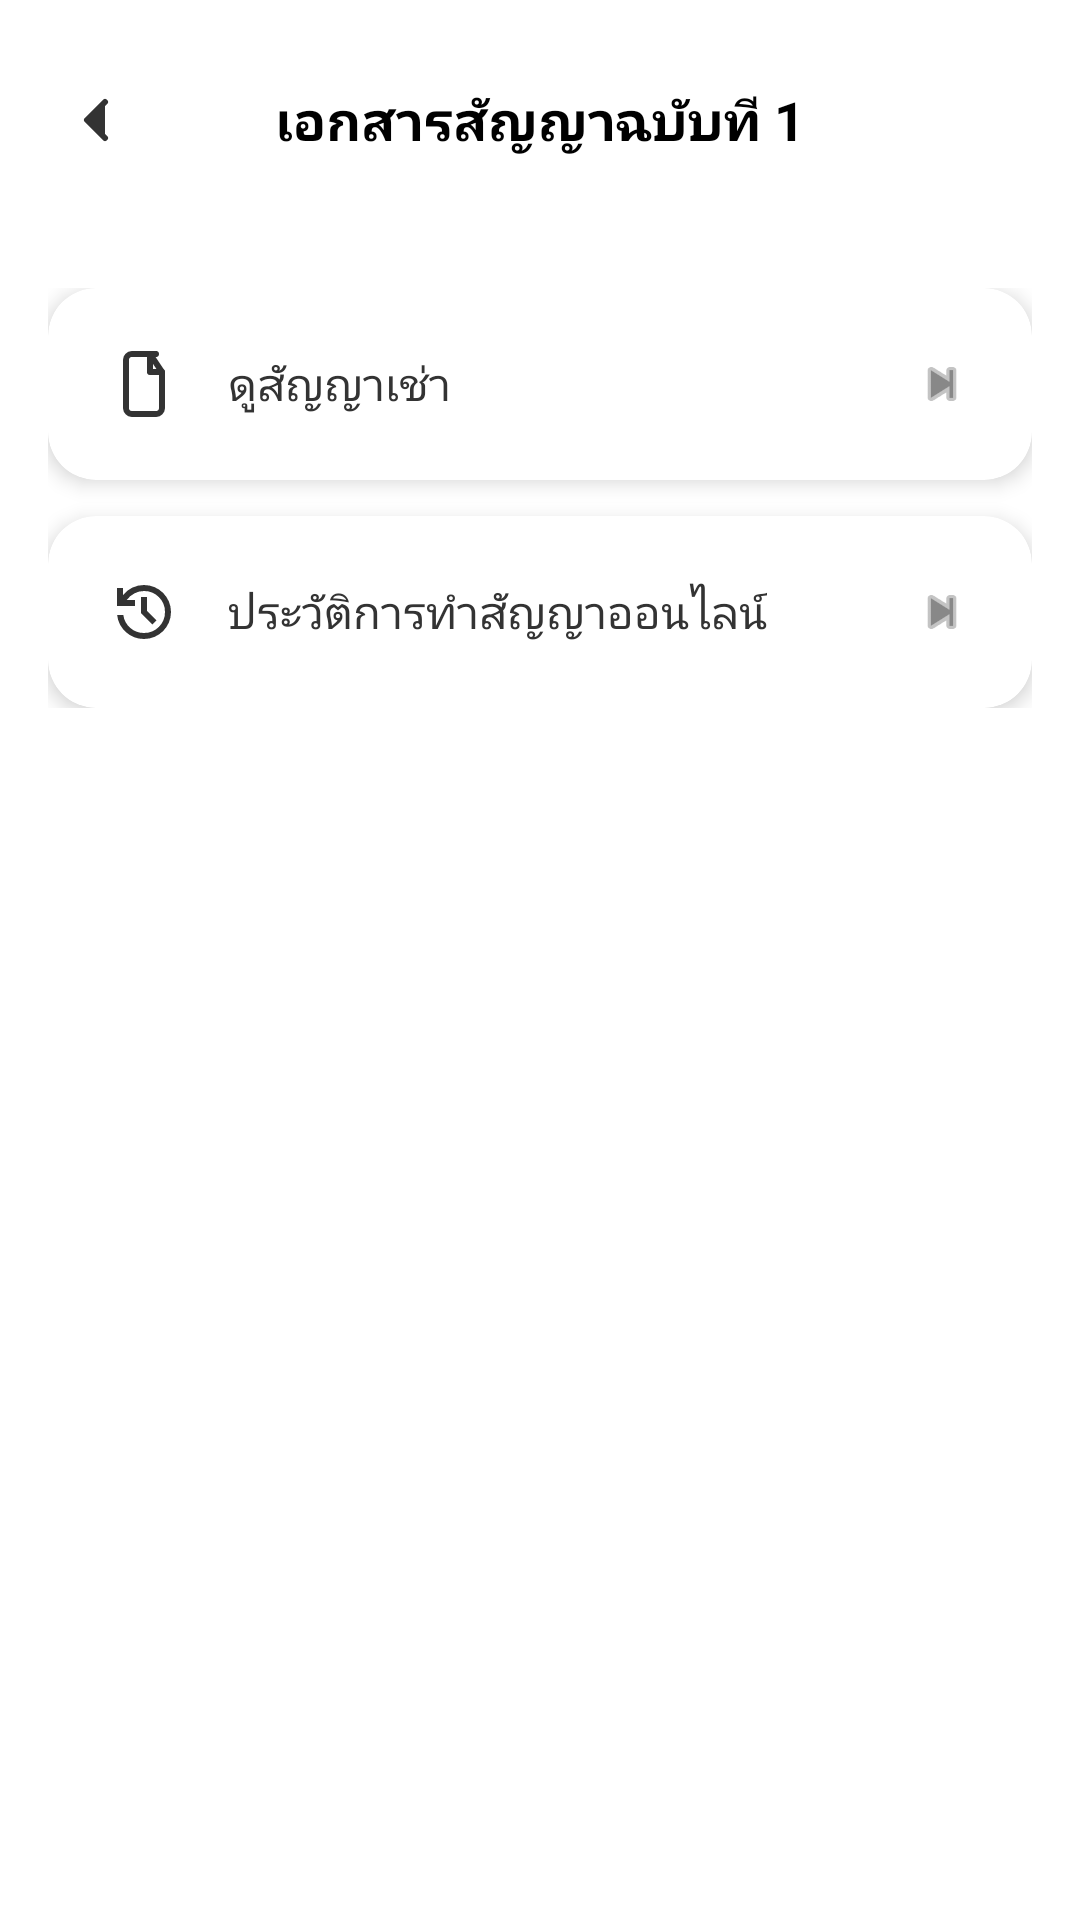

Icon bounding boxes for this 1080x1920 phone screenshot, format (x1, y1, x2, y2):
back gg: (84, 99, 108, 141)
file gg: (123, 351, 165, 417)
history gg: (117, 585, 171, 639)
next: (928, 367, 956, 401), (928, 595, 956, 629)
